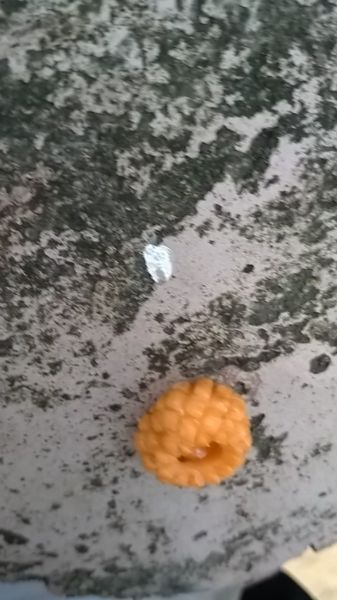eggs: (131, 373, 257, 491)
